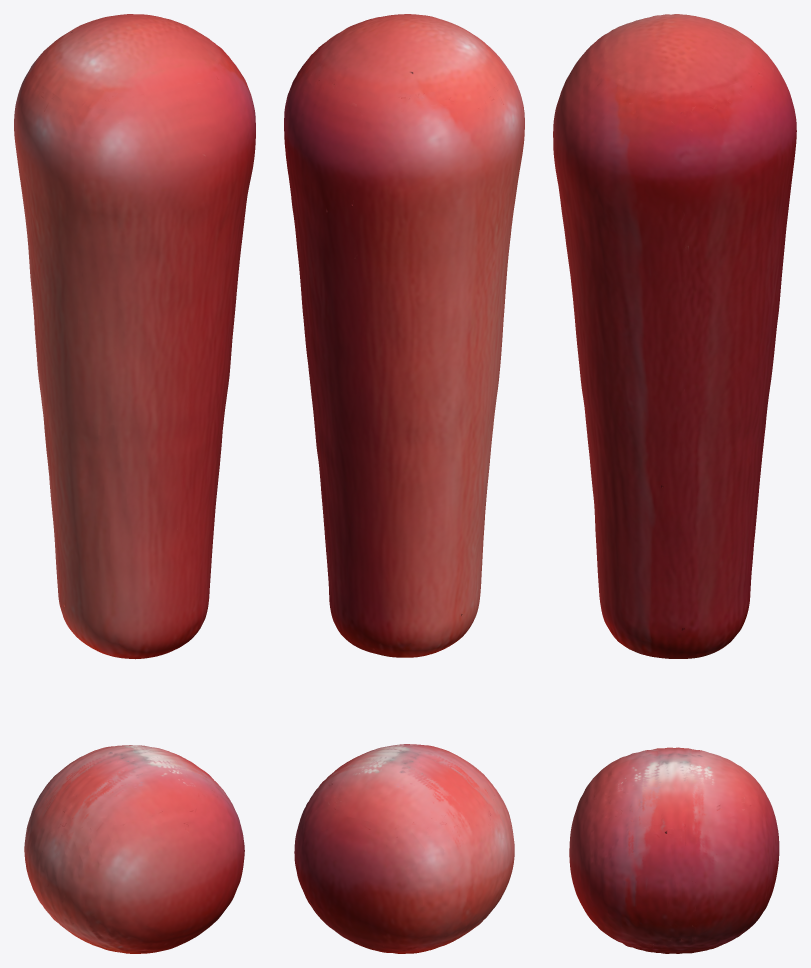
File: exclamation.fbx
3 views of the same model, side by side, from view 1: azimuth 30°, elevation 25°; view 2: azimuth 150°, elevation 25°; view 3: azimuth 270°, elevation 25° (orthographic).
Visible parts, largest first — view 1: material_0; view 2: material_0; view 3: material_0.
Boxes of the visible parts, x1=… form: material_0: x1=14, y1=14, x2=255, y2=953; material_0: x1=284, y1=14, x2=524, y2=953; material_0: x1=553, y1=14, x2=796, y2=953.
Bounding box in the file's own units: 23.66 × 100 × 24.09.
Materials: 1 (1 with a texture image).
